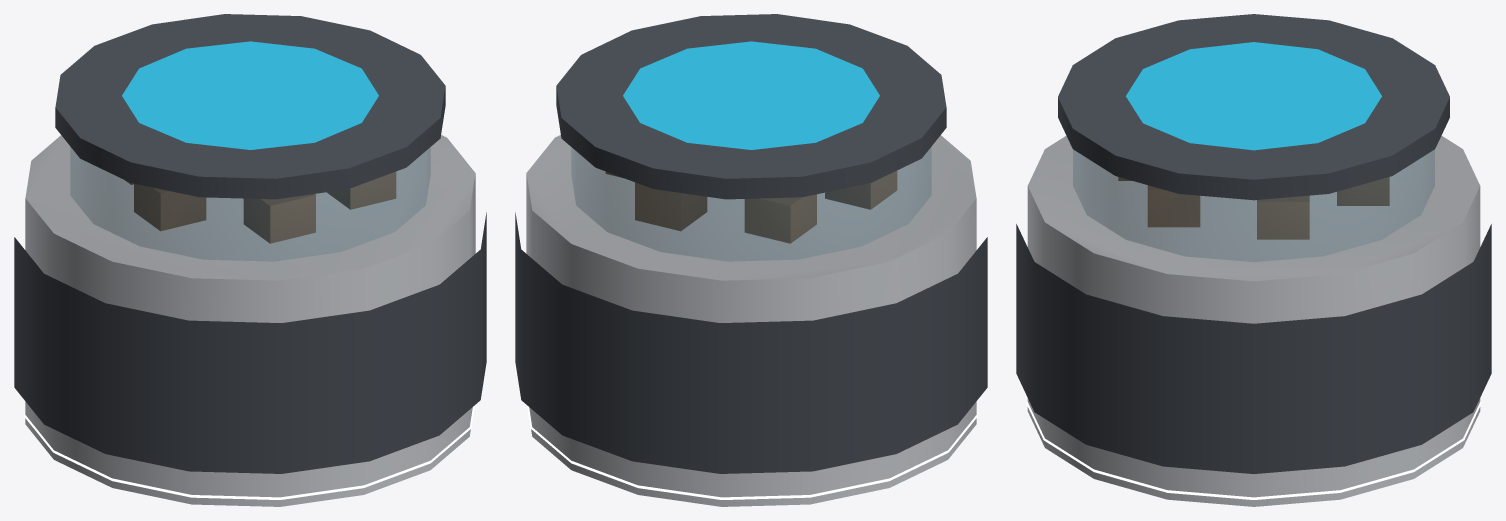
Rendered from transport_junction.glb.
3 views of the same model, side by side, from view 1: azimuth 30°, elevation 25°; view 2: azimuth 150°, elevation 25°; view 3: azimuth 270°, elevation 25° (orthographic).
Visible parts, largest first — view 1: Roof; view 2: Roof; view 3: Roof.
Part boxes in pixels (x1=…): Roof: x1=14, y1=14, x2=486, y2=506; Roof: x1=515, y1=14, x2=987, y2=506; Roof: x1=1016, y1=14, x2=1491, y2=506.
Bounding box in the file's own units: 0.63 × 0.464 × 0.63.
